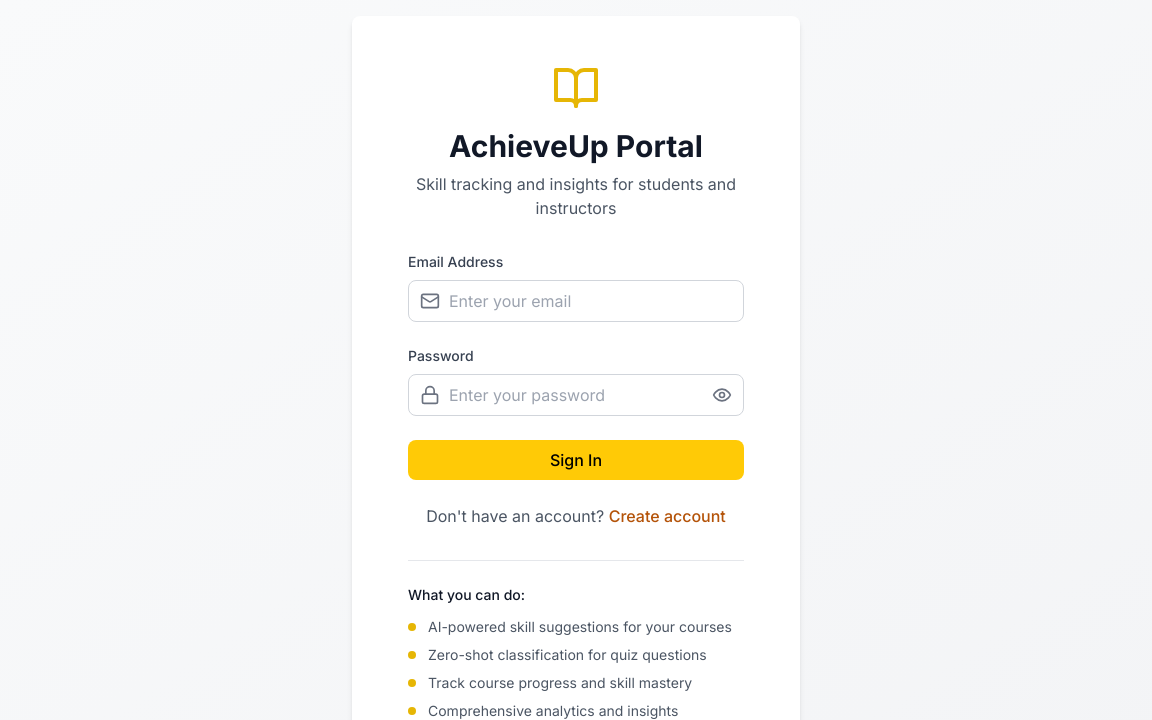
Test: Login Component › validates required fields
Click the button "Sign In".
click(576, 460)  # box top-left (408, 440), bottom-right (744, 480)
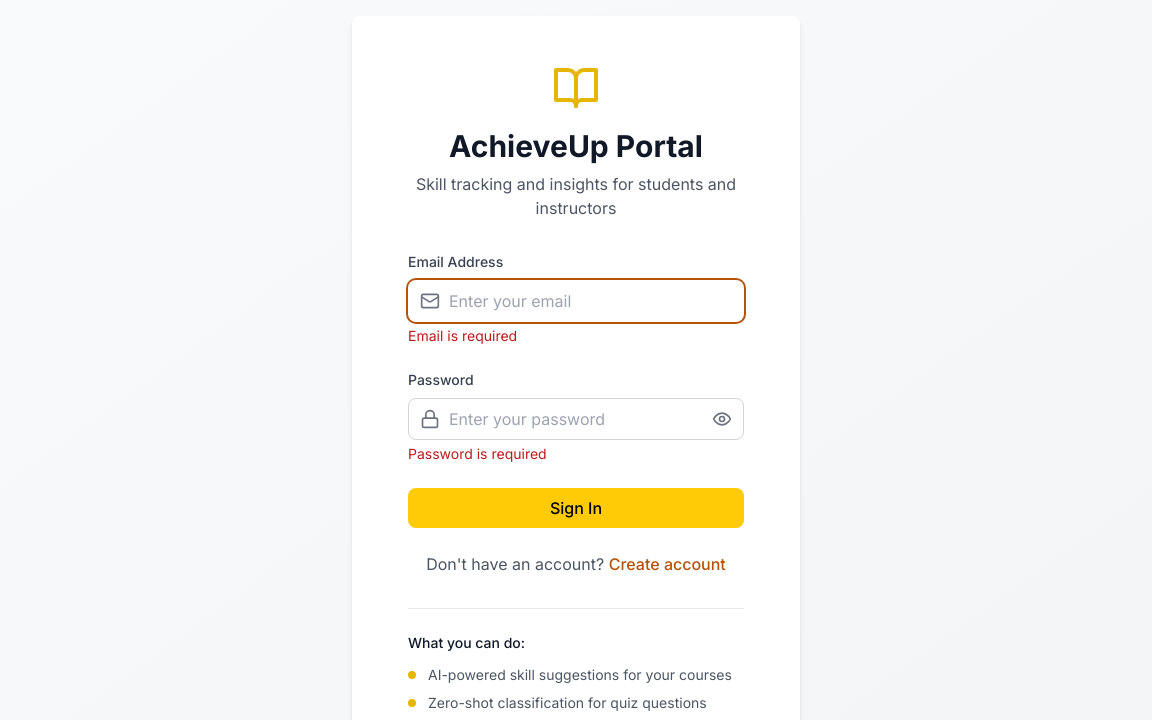
Expected: the text "Email is required" is shown, top-left (408, 327), bottom-right (517, 344)
Expected: the text "Password is required" is shown, top-left (408, 445), bottom-right (547, 462)
